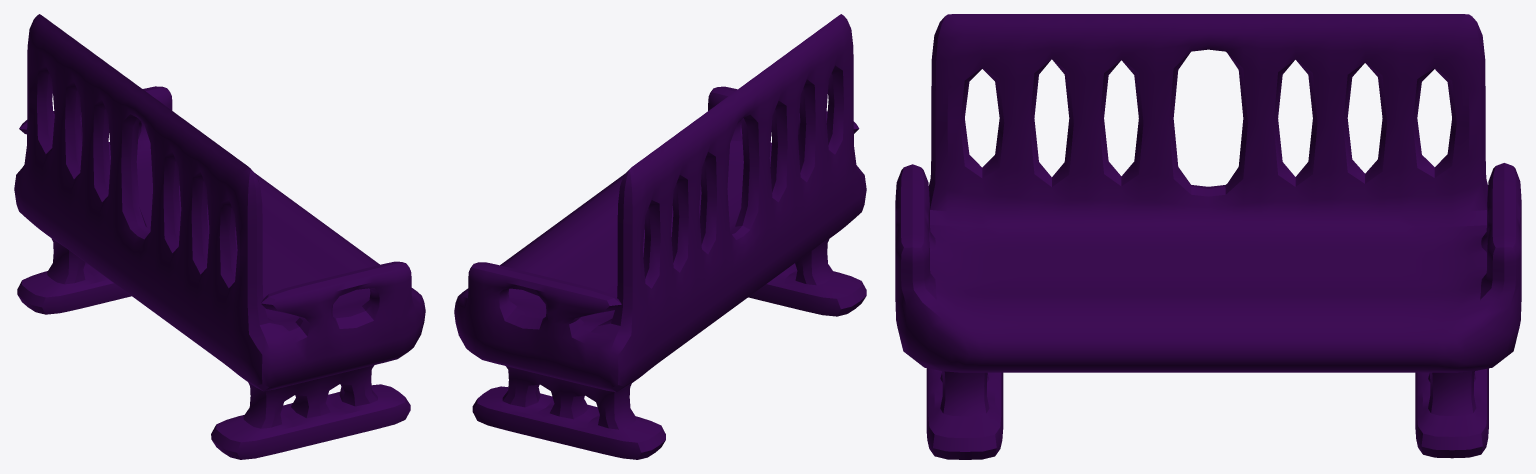
Rendered from bench.fbx.
The picture shows the model from 3 angles, left to right: view 1: azimuth 30°, elevation 25°; view 2: azimuth 150°, elevation 25°; view 3: azimuth 270°, elevation 25°; orthographic projection. The views are drawn at different scales.
Visible parts, largest first — view 1: Cube; view 2: Cube; view 3: Cube.
Part boxes in pixels (box(x1,y1,x2,y2)): Cube: box(14, 14, 425, 459); Cube: box(454, 14, 866, 459); Cube: box(895, 14, 1521, 459).
Size of the model in its own units: 95.18 by 125 by 200.
